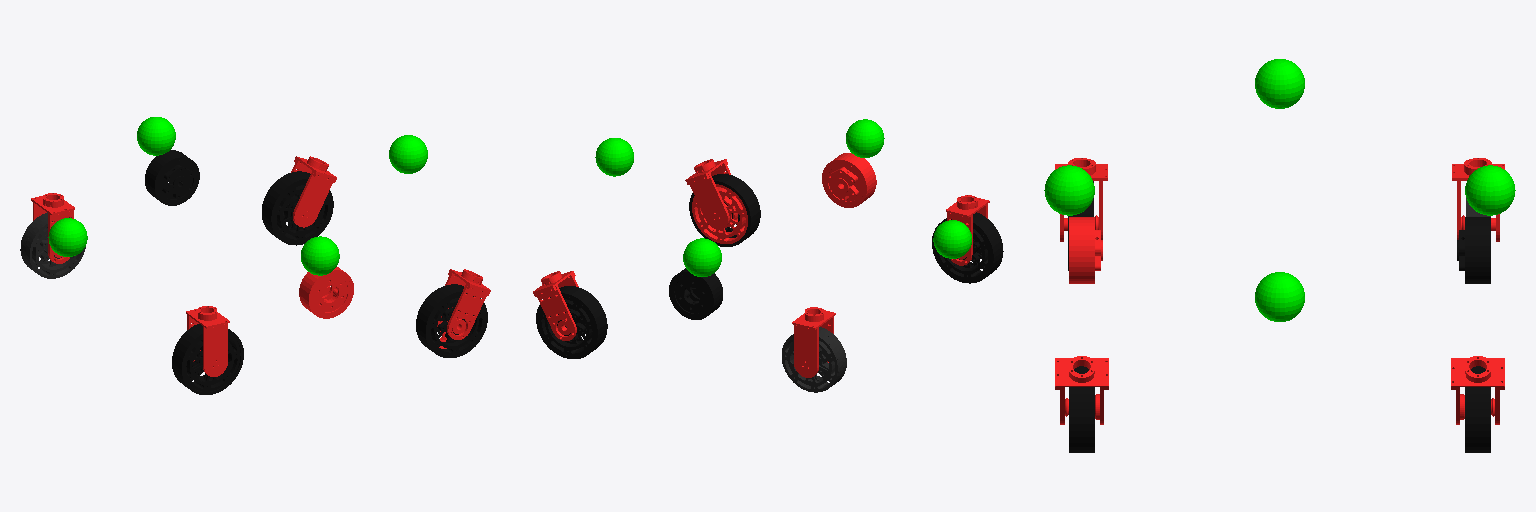
URDF robot description (chassis):
<?xml version="1.0" encoding="utf-8"?>
<robot name="chassis">
  <link name="base_link">
    <inertial>
      <origin xyz="-0.228303970028683 -0.000876202158095252 0.0299134679923336" rpy="0 0 0" />
      <mass value="5.53904527133728" />
      <inertia ixx="0.028475" ixy="0" ixz="0" iyy="0.016389" iyz="0" izz="0.041786" />
    </inertial>
    <visual>
      <origin xyz="0 0 0" rpy="0 0 0" />
      <geometry>
        <mesh filename="package://chassis/meshes/base_link.STL" />
      </geometry>
      <material name="">
        <color rgba="0.847058823529412 0.847058823529412 0.847058823529412 1" />
      </material>
    </visual>
    <collision>
      <origin xyz="0 0 0" rpy="0 0 0" />
      <geometry>
        <mesh filename="package://chassis/meshes/base_link.STL" />
      </geometry>
    </collision>
  </link>

  <link name="hover_center_link">
    <inertial><mass value="0.001" /><inertia ixx="0.00001" ixy="0" ixz="0" iyy="0.00001" iyz="0" izz="0.00001" /></inertial>
  </link>

  <joint name="hover_center_joint" type="fixed">
    <origin xyz="-0.195 0 0.05" rpy="0 0 0" />
    <parent link="base_link" />
    <child link="hover_center_link" />
  </joint>

  <link name="hover_front_link">
    <inertial><mass value="0.01" /><inertia ixx="0.0001" ixy="0" ixz="0" iyy="0.0001" iyz="0" izz="0.0001" /></inertial>
    <visual><geometry><sphere radius="0.03"/></geometry><material name=""><color rgba="0 1 0 1" /></material></visual>
  </link>
  <joint name="hover_front_joint" type="revolute">
    <origin xyz="0.3 0 0" rpy="0 0 0" /> <parent link="hover_center_link" />
    <child link="hover_front_link" />
    <axis xyz="0 0 1" /><limit lower="0" upper="0" effort="0" velocity="0" />
  </joint>

  <link name="hover_back_link">
    <inertial><mass value="0.01" /><inertia ixx="0.0001" ixy="0" ixz="0" iyy="0.0001" iyz="0" izz="0.0001" /></inertial>
    <visual><geometry><sphere radius="0.03"/></geometry><material name=""><color rgba="0 1 0 1" /></material></visual>
  </link>
  <joint name="hover_back_joint" type="revolute">
    <origin xyz="-0.3 0 0" rpy="0 0 0" /> <parent link="hover_center_link" />
    <child link="hover_back_link" />
    <axis xyz="0 0 1" /><limit lower="0" upper="0" effort="0" velocity="0" />
  </joint>

  <link name="hover_left_link">
    <inertial><mass value="0.01" /><inertia ixx="0.0001" ixy="0" ixz="0" iyy="0.0001" iyz="0" izz="0.0001" /></inertial>
    <visual><geometry><sphere radius="0.03"/></geometry><material name=""><color rgba="0 1 0 1" /></material></visual>
  </link>
  <joint name="hover_left_joint" type="revolute">
    <origin xyz="0 0.25 0" rpy="0 0 0" /> <parent link="hover_center_link" />
    <child link="hover_left_link" />
    <axis xyz="0 0 1" /><limit lower="0" upper="0" effort="0" velocity="0" />
  </joint>

  <link name="hover_right_link">
    <inertial><mass value="0.01" /><inertia ixx="0.0001" ixy="0" ixz="0" iyy="0.0001" iyz="0" izz="0.0001" /></inertial>
    <visual><geometry><sphere radius="0.03"/></geometry><material name=""><color rgba="0 1 0 1" /></material></visual>
  </link>
  <joint name="hover_right_joint" type="revolute">
    <origin xyz="0 -0.25 0" rpy="0 0 0" /> <parent link="hover_center_link" />
    <child link="hover_right_link" />
    <axis xyz="0 0 1" /><limit lower="0" upper="0" effort="0" velocity="0" />
  </joint>
  <link name="right_haunch_pitch_link">
    <inertial>
      <origin xyz="0.0339366201033879 -0.0288772647031759 -0.0391803434295923" rpy="0 0 0" />
      <mass value="0.260740535642986" />
      <inertia ixx="0.001" ixy="0" ixz="0" iyy="0.001" iyz="0" izz="0.001" />
    </inertial>
    <visual>
      <origin xyz="0 0 0" rpy="0 0 0" />
      <geometry><mesh filename="package://chassis/meshes/right_haunch_pitch_link.STL" /></geometry>
      <material name=""><color rgba="0.866666666666667 0.909803921568627 1 1" /></material>
    </visual>
    <collision>
      <origin xyz="0 0 0" rpy="0 0 0" />
      <geometry><mesh filename="package://chassis/meshes/right_haunch_pitch_link.STL" /></geometry>
    </collision>
  </link>

  <joint name="right_haunch_pitch_joint" type="revolute">
    <origin xyz="7.89664045233174E-05 -0.189999999999998 0.0155946272161924" rpy="0 0.0280639905110907 0" />
    <parent link="base_link" />
    <child link="right_haunch_pitch_link" />
    <axis xyz="0 1 0" />
    <limit lower="-3.14" upper="3.14" effort="20" velocity="190" />
  </joint>

  <link name="right_heel_wheel_pitch_link">
    <inertial>
      <origin xyz="2.83327654020393E-05 0.0108463559409561 -0.00047526453468056" rpy="0 0 0" />
      <mass value="0.16431979758067" />
      <inertia ixx="0.001" ixy="0" ixz="0" iyy="0.001" iyz="0" izz="0.001" />
    </inertial>
    <visual>
      <origin xyz="0 0 0" rpy="0 0 0" />
      <geometry><mesh filename="package://chassis/meshes/right_heel_wheel_pitch_link.STL" /></geometry>
      <material name=""><color rgba="1 0.168627450980392 0.168627450980392 1" /></material>
    </visual>
    <collision>
      <origin xyz="0 0 0" rpy="0 0 0" />
      <geometry><mesh filename="package://chassis/meshes/right_heel_wheel_pitch_link.STL" /></geometry>
    </collision>
  </link>

  <joint name="right_heel_wheel_pitch_joint" type="revolute">
    <origin xyz="-0.174321789601735 -0.0304999999998289 -0.0397965699009306" rpy="-3.14159265358979 0 0" />
    <parent link="right_haunch_pitch_link" />
    <child link="right_heel_wheel_pitch_link" />
    <axis xyz="0 1 0" />
    <limit lower="-3.14" upper="3.14" effort="3" velocity="469" />
  </joint>

  <link name="right_f_ankle_yaw_link">
    <inertial>
      <origin xyz="7.57543468865585E-06 -0.00339904167627957 -0.0672623930299538" rpy="0 0 0" />
      <mass value="0.156153092702158" />
      <inertia ixx="0.001" ixy="0" ixz="0" iyy="0.001" iyz="0" izz="0.001" />
    </inertial>
    <visual>
      <origin xyz="0 0 0" rpy="0 0 0" />
      <geometry><mesh filename="package://chassis/meshes/right_f_ankle_yaw_link.STL" /></geometry>
      <material name=""><color rgba="1 0.168627450980392 0.168627450980392 1" /></material>
    </visual>
    <collision>
      <origin xyz="0 0 0" rpy="0 0 0" />
      <geometry><mesh filename="package://chassis/meshes/right_f_ankle_yaw_link.STL" /></geometry>
    </collision>
  </link>

  <joint name="right_f_ankle_yaw_joint" type="revolute">
    <origin xyz="0.0861128261146984 -0.0395000000367831 -0.0634768419001519" rpy="0 0.468635050641022 0" />
    <parent link="right_haunch_pitch_link" />
    <child link="right_f_ankle_yaw_link" />
    <axis xyz="0 0 1" />
    <limit lower="-3.14" upper="3.14" effort="7" velocity="200" />
  </joint>

  <link name="right_f_wheel_pitch_link">
    <inertial>
      <origin xyz="0.00018645857181232 -0.0105653113754948 -0.000469045139969045" rpy="0 0 0" />
      <mass value="0.148575729795387" />
      <inertia ixx="0.001" ixy="0" ixz="0" iyy="0.001" iyz="0" izz="0.001" />
    </inertial>
    <visual>
      <origin xyz="0 0 0" rpy="0 0 0" />
      <geometry><mesh filename="package://chassis/meshes/right_f_wheel_pitch_link.STL" /></geometry>
      <material name=""><color rgba="0.101960784313725 0.101960784313725 0.101960784313725 1" /></material>
    </visual>
    <collision>
      <origin xyz="0 0 0" rpy="0 0 0" />
      <geometry><mesh filename="package://chassis/meshes/right_f_wheel_pitch_link.STL" /></geometry>
    </collision>
  </link>

  <joint name="right_f_wheel_pitch_joint" type="revolute">
    <origin xyz="0 -0.0209999999632119 -0.0814999999999685" rpy="-3.14159265358979 -0.468635050641022 0" />
    <parent link="right_f_ankle_yaw_link" />
    <child link="right_f_wheel_pitch_link" />
    <axis xyz="0 1 0" />
    <limit lower="-3.14" upper="3.14" effort="3" velocity="469" />
  </joint>

  <link name="left_haunch_pitch_link">
    <inertial>
      <origin xyz="0.0333993317808816 0.0282019259178099 -0.0381121386887407" rpy="0 0 0" />
      <mass value="0.268684499662383" />
      <inertia ixx="0.001" ixy="0" ixz="0" iyy="0.001" iyz="0" izz="0.001" />
    </inertial>
    <visual>
      <origin xyz="0 0 0" rpy="0 0 0" />
      <geometry><mesh filename="package://chassis/meshes/left_haunch_pitch_link.STL" /></geometry>
      <material name=""><color rgba="0.298039215686275 0.298039215686275 0.298039215686275 1" /></material>
    </visual>
    <collision>
      <origin xyz="0 0 0" rpy="0 0 0" />
      <geometry><mesh filename="package://chassis/meshes/left_haunch_pitch_link.STL" /></geometry>
    </collision>
  </link>

  <joint name="left_haunch_pitch_joint" type="revolute">
    <origin xyz="-7.89664044891225E-05 0.190000000000002 0.0155946272162527" rpy="0 0.0280639905110907 0" />
    <parent link="base_link" />
    <child link="left_haunch_pitch_link" />
    <axis xyz="0 -1 0" />
    <limit lower="-3.14" upper="3.14" effort="20" velocity="190" />
  </joint>

  <link name="left_heel_wheel_pitch_link">
    <inertial>
      <origin xyz="-2.8332765415584E-05 -0.0108463559411216 0.000475264534692037" rpy="0 0 0" />
      <mass value="0.16431979758067" />
      <inertia ixx="0.001" ixy="0" ixz="0" iyy="0.001" iyz="0" izz="0.001" />
    </inertial>
    <visual>
      <origin xyz="0 0 0" rpy="0 0 0" />
      <geometry><mesh filename="package://chassis/meshes/left_heel_wheel_pitch_link.STL" /></geometry>
      <material name=""><color rgba="0.101960784313725 0.101960784313725 0.101960784313725 1" /></material>
    </visual>
    <collision>
      <origin xyz="0 0 0" rpy="0 0 0" />
      <geometry><mesh filename="package://chassis/meshes/left_heel_wheel_pitch_link.STL" /></geometry>
    </collision>
  </link>

  <joint name="left_heel_wheel_pitch_joint" type="revolute">
    <origin xyz="-0.174163918981611 0.030500000000113 -0.0397921382579199" rpy="0 0 3.14159265358979" />
    <parent link="left_haunch_pitch_link" />
    <child link="left_heel_wheel_pitch_link" />
    <axis xyz="0 1 0" />
    <limit lower="-3.14" upper="3.14" effort="3" velocity="469" />
  </joint>

  <link name="left_f_ankle_yaw_link">
    <inertial>
      <origin xyz="3.13864653356255E-06 -0.00321607161635662 -0.0545657739500743" rpy="0 0 0" />
      <mass value="0.0825435398414466" />
      <inertia ixx="0.001" ixy="0" ixz="0" iyy="0.001" iyz="0" izz="0.001" />
    </inertial>
    <visual>
      <origin xyz="0 0 0" rpy="0 0 0" />
      <geometry><mesh filename="package://chassis/meshes/left_f_ankle_yaw_link.STL" /></geometry>
      <material name=""><color rgba="1 0.168627450980392 0.168627450980392 1" /></material>
    </visual>
    <collision>
      <origin xyz="0 0 0" rpy="0 0 0" />
      <geometry><mesh filename="package://chassis/meshes/left_f_ankle_yaw_link.STL" /></geometry>
    </collision>
  </link>

  <joint name="left_f_ankle_yaw_joint" type="revolute">
    <origin xyz="0.0862706968457094 0.0514999999073168 -0.0634724103132592" rpy="0 0.468635050641022 0" />
    <parent link="left_haunch_pitch_link" />
    <child link="left_f_ankle_yaw_link" />
    <axis xyz="0 0 1" />
    <limit lower="-3.14" upper="3.14" effort="7" velocity="200" />
  </joint>

  <link name="left_f_wheel_pitch_link">
    <inertial>
      <origin xyz="-0.000124685208899855 0.0148967342829046 0.000313651395595402" rpy="0 0 0" />
      <mass value="0.222185282656097" />
      <inertia ixx="0.001" ixy="0" ixz="0" iyy="0.001" iyz="0" izz="0.001" />
    </inertial>
    <visual>
      <origin xyz="0 0 0" rpy="0 0 0" />
      <geometry><mesh filename="package://chassis/meshes/left_f_wheel_pitch_link.STL" /></geometry>
      <material name=""><color rgba="0.101960784313725 0.101960784313725 0.101960784313725 1" /></material>
    </visual>
    <collision>
      <origin xyz="0 0 0" rpy="0 0 0" />
      <geometry><mesh filename="package://chassis/meshes/left_f_wheel_pitch_link.STL" /></geometry>
    </collision>
  </link>

  <joint name="left_f_wheel_pitch_joint" type="revolute">
    <origin xyz="0 0.00900000009268098 -0.0814999999999982" rpy="0 0.468635050641022 3.14159265358979" />
    <parent link="left_f_ankle_yaw_link" />
    <child link="left_f_wheel_pitch_link" />
    <axis xyz="0 1 0" />
    <limit lower="-3.14" upper="3.14" effort="3" velocity="469" />
  </joint>

  <link name="left_b_heel_yaw_link">
    <inertial>
      <origin xyz="-1.17994743353833E-06 -0.00394487184425407 -0.0586122801965365" rpy="0 0 0" />
      <mass value="0.071557663530086" />
      <inertia ixx="0.001" ixy="0" ixz="0" iyy="0.001" iyz="0" izz="0.001" />
    </inertial>
    <visual>
      <origin xyz="0 0 0" rpy="0 0 0" />
      <geometry><mesh filename="package://chassis/meshes/left_b_heel_yaw_link.STL" /></geometry>
      <material name=""><color rgba="1 0.168627450980392 0.168627450980392 1" /></material>
    </visual>
    <collision>
      <origin xyz="0 0 0" rpy="0 0 0" />
      <geometry><mesh filename="package://chassis/meshes/left_b_heel_yaw_link.STL" /></geometry>
    </collision>
  </link>

  <joint name="left_b_heel_yaw_joint" type="fixed">
    <origin xyz="-0.385000000085192 0.235500000040191 0" rpy="0 0 0" />
    <parent link="base_link" />
    <child link="left_b_heel_yaw_link" />
    <axis xyz="0 0 0" />
    <limit lower="-3.14" upper="3.14" effort="7" velocity="200" />
  </joint>

  <link name="left_b_wheel_pitch_link">
    <inertial>
      <origin xyz="-0.000410283750143847 -0.0136930162735144 0.000251764755261705" rpy="0 0 0" />
      <mass value="0.15277136109163" />
      <inertia ixx="0.001" ixy="0" ixz="0" iyy="0.001" iyz="0" izz="0.001" />
    </inertial>
    <visual>
      <origin xyz="0 0 0" rpy="0 0 0" />
      <geometry><mesh filename="package://chassis/meshes/left_b_wheel_pitch_link.STL" /></geometry>
      <material name=""><color rgba="0.2 0.2 0.2 1" /></material>
    </visual>
    <collision>
      <origin xyz="0 0 0" rpy="0 0 0" />
      <geometry><mesh filename="package://chassis/meshes/left_b_wheel_pitch_link.STL" /></geometry>
    </collision>
  </link>

  <joint name="left_b_wheel_pitch_joint" type="revolute">
    <origin xyz="4.38394921822294E-05 -0.0140000000403241 -0.0834101217145528" rpy="0 -0.0280639905110915 3.14159265358979" />
    <parent link="left_b_heel_yaw_link" />
    <child link="left_b_wheel_pitch_link" />
    <axis xyz="0 -1 0" />
    <limit lower="-3.14" upper="3.14" effort="3" velocity="469" />
  </joint>

  <link name="right_b_heel_yaw_link">
    <inertial>
      <origin xyz="-1.40904921930307E-05 0.00394487184499281 -0.0586122801965366" rpy="0 0 0" />
      <mass value="0.071557663530086" />
      <inertia ixx="0.001" ixy="0" ixz="0" iyy="0.001" iyz="0" izz="0.001" />
    </inertial>
    <visual>
      <origin xyz="0 0 0" rpy="0 0 0" />
      <geometry><mesh filename="package://chassis/meshes/right_b_heel_yaw_link.STL" /></geometry>
      <material name=""><color rgba="1 0.168627450980392 0.168627450980392 1" /></material>
    </visual>
    <collision>
      <origin xyz="0 0 0" rpy="0 0 0" />
      <geometry><mesh filename="package://chassis/meshes/right_b_heel_yaw_link.STL" /></geometry>
    </collision>
  </link>

  <joint name="right_b_heel_yaw_joint" type="revolute">
    <origin xyz="-0.38499999990586 -0.235500000040753 0" rpy="0 0 0" />
    <parent link="base_link" />
    <child link="right_b_heel_yaw_link" />
    <axis xyz="0 0 1" />
    <limit lower="-3.14" upper="3.14" effort="7" velocity="200" />
  </joint>

  <link name="right_b_wheel_pitch_link">
    <inertial>
      <origin xyz="0.000312581761166664 0.0140363406887482 -0.000177590421288055" rpy="0 0 0" />
      <mass value="0.207199453815074" />
      <inertia ixx="0.001" ixy="0" ixz="0" iyy="0.001" iyz="0" izz="0.001" />
    </inertial>
    <visual>
      <origin xyz="0 0 0" rpy="0 0 0" />
      <geometry><mesh filename="package://chassis/meshes/right_b_wheel_pitch_link.STL" /></geometry>
      <material name=""><color rgba="0.101960784313725 0.101960784313725 0.101960784313725 1" /></material>
    </visual>
    <collision>
      <origin xyz="0 0 0" rpy="0 0 0" />
      <geometry><mesh filename="package://chassis/meshes/right_b_wheel_pitch_link.STL" /></geometry>
    </collision>
  </link>

  <joint name="right_b_wheel_pitch_joint" type="revolute">
    <origin xyz="4.38393128505687E-05 0.0140000000409253 -0.0834101217145524" rpy="3.14159265358979 0.028063990511091 0" />
    <parent link="right_b_heel_yaw_link" />
    <child link="right_b_wheel_pitch_link" />
    <axis xyz="0 -1 0" />
    <limit lower="-3.14" upper="3.14" effort="3" velocity="469" />
  </joint>

  <gazebo reference="base_link"><gravity>false</gravity></gazebo>
  
  <gazebo reference="right_haunch_pitch_link"><gravity>false</gravity></gazebo>
  <gazebo reference="right_heel_wheel_pitch_link"><gravity>false</gravity></gazebo>
  <gazebo reference="right_f_ankle_yaw_link"><gravity>false</gravity></gazebo>
  <gazebo reference="right_f_wheel_pitch_link"><gravity>false</gravity></gazebo>
  <gazebo reference="right_b_heel_yaw_link"><gravity>false</gravity></gazebo>
  <gazebo reference="right_b_wheel_pitch_link"><gravity>false</gravity></gazebo>

  <gazebo reference="left_haunch_pitch_link"><gravity>false</gravity></gazebo>
  <gazebo reference="left_heel_wheel_pitch_link"><gravity>false</gravity></gazebo>
  <gazebo reference="left_f_ankle_yaw_link"><gravity>false</gravity></gazebo>
  <gazebo reference="left_f_wheel_pitch_link"><gravity>false</gravity></gazebo>
  <gazebo reference="left_b_heel_yaw_link"><gravity>false</gravity></gazebo>
  <gazebo reference="left_b_wheel_pitch_link"><gravity>false</gravity></gazebo>

  <gazebo reference="hover_center_link"><gravity>false</gravity></gazebo>
  <gazebo reference="hover_front_link"><gravity>false</gravity></gazebo>
  <gazebo reference="hover_back_link"><gravity>false</gravity></gazebo>
  <gazebo reference="hover_left_link"><gravity>false</gravity></gazebo>
  <gazebo reference="hover_right_link"><gravity>false</gravity></gazebo>

  <gazebo>
    <plugin name="floating_chassis_controller" filename="libgazebo_ros_planar_move.so">
      <ros>
        <namespace>/</namespace>
        <remapping>cmd_vel:=cmd_vel</remapping>
        <remapping>odom:=odom</remapping>
      </ros>
      <update_rate>100.0</update_rate>
      <publish_rate>50.0</publish_rate>
      <publish_odom>true</publish_odom>
      <publish_odom_tf>true</publish_odom_tf>
      <robot_base_frame>base_link</robot_base_frame>
      <odometry_frame>odom</odometry_frame>
      <covariance_x>0.0001</covariance_x>
      <covariance_y>0.0001</covariance_y>
      <covariance_yaw>0.01</covariance_yaw>
    </plugin>
  </gazebo>

  <gazebo>
    <plugin name="force_front" filename="libgazebo_ros_force.so">
      <ros><namespace>/</namespace><remapping>gazebo_ros_force:=force_cmd</remapping></ros>
      <link_name>hover_front_link</link_name>
      <force_frame>world</force_frame>
    </plugin>
  </gazebo>
  <gazebo>
    <plugin name="force_back" filename="libgazebo_ros_force.so">
      <ros><namespace>/</namespace><remapping>gazebo_ros_force:=force_cmd</remapping></ros>
      <link_name>hover_back_link</link_name>
      <force_frame>world</force_frame>
    </plugin>
  </gazebo>
  <gazebo>
    <plugin name="force_left" filename="libgazebo_ros_force.so">
      <ros><namespace>/</namespace><remapping>gazebo_ros_force:=force_cmd</remapping></ros>
      <link_name>hover_left_link</link_name>
      <force_frame>world</force_frame>
    </plugin>
  </gazebo>
  <gazebo>
    <plugin name="force_right" filename="libgazebo_ros_force.so">
      <ros><namespace>/</namespace><remapping>gazebo_ros_force:=force_cmd</remapping></ros>
      <link_name>hover_right_link</link_name>
      <force_frame>world</force_frame>
    </plugin>
  </gazebo>

</robot>

--- Facts derived from the render (not from the file) ---
The picture shows the robot from 3 angles, left to right: view 1: azimuth 30°, elevation 25°; view 2: azimuth 150°, elevation 25°; view 3: azimuth 270°, elevation 25°; orthographic projection.
Robot: chassis — 18 links, 17 joints (15 revolute, 2 fixed); root link base_link; default pose: all joints at 0.
Links seen in each view (by area): view 1: left_f_wheel_pitch_link, right_f_wheel_pitch_link, right_b_wheel_pitch_link, left_heel_wheel_pitch_link, right_heel_wheel_pitch_link, right_b_heel_yaw_link, right_f_ankle_yaw_link, left_f_ankle_yaw_link, left_b_wheel_pitch_link, hover_left_link, hover_right_link, hover_back_link (+2 smaller); view 2: right_f_ankle_yaw_link, left_f_wheel_pitch_link, right_b_wheel_pitch_link, right_heel_wheel_pitch_link, left_b_wheel_pitch_link, left_heel_wheel_pitch_link, left_b_heel_yaw_link, left_f_ankle_yaw_link, right_f_wheel_pitch_link, hover_left_link, hover_back_link, hover_right_link (+2 smaller); view 3: right_f_ankle_yaw_link, left_f_ankle_yaw_link, right_heel_wheel_pitch_link, left_heel_wheel_pitch_link, hover_front_link, hover_left_link, hover_right_link, hover_back_link, right_f_wheel_pitch_link, left_f_wheel_pitch_link, left_b_heel_yaw_link, right_b_heel_yaw_link.
Link boxes in pixels (box(x1,y1,x2,y2)): left_f_wheel_pitch_link: box(262, 171, 333, 245); right_f_wheel_pitch_link: box(416, 284, 487, 357); right_b_wheel_pitch_link: box(172, 324, 243, 394); left_heel_wheel_pitch_link: box(145, 150, 199, 205); right_heel_wheel_pitch_link: box(299, 267, 353, 318); right_b_heel_yaw_link: box(186, 306, 229, 376); right_f_ankle_yaw_link: box(437, 269, 490, 348); left_f_ankle_yaw_link: box(291, 156, 336, 227); left_b_wheel_pitch_link: box(20, 212, 85, 278); hover_left_link: box(137, 117, 175, 155); hover_right_link: box(301, 236, 339, 275); hover_back_link: box(48, 218, 87, 256); right_f_ankle_yaw_link: box(685, 159, 747, 243); left_f_wheel_pitch_link: box(536, 286, 607, 358); right_b_wheel_pitch_link: box(932, 212, 1003, 283); right_heel_wheel_pitch_link: box(822, 153, 876, 207); left_b_wheel_pitch_link: box(782, 327, 846, 392); left_heel_wheel_pitch_link: box(669, 268, 722, 319); left_b_heel_yaw_link: box(792, 307, 835, 377); left_f_ankle_yaw_link: box(533, 271, 578, 340); right_f_wheel_pitch_link: box(689, 174, 760, 246); hover_left_link: box(683, 238, 721, 276); hover_back_link: box(933, 220, 971, 258); hover_right_link: box(846, 119, 884, 157); right_f_ankle_yaw_link: box(1055, 356, 1108, 424); left_f_ankle_yaw_link: box(1451, 356, 1504, 424); right_heel_wheel_pitch_link: box(1069, 217, 1102, 283); left_heel_wheel_pitch_link: box(1457, 217, 1490, 283); hover_front_link: box(1255, 272, 1304, 321); hover_left_link: box(1465, 165, 1515, 215); hover_right_link: box(1044, 165, 1094, 215); hover_back_link: box(1255, 59, 1304, 108); right_f_wheel_pitch_link: box(1069, 366, 1094, 452); left_f_wheel_pitch_link: box(1465, 366, 1490, 452); left_b_heel_yaw_link: box(1452, 158, 1504, 241); right_b_heel_yaw_link: box(1055, 158, 1107, 241).
Bounding box of the posed robot: 0.66 × 0.56 × 0.2569 m (x, y, z).
10 mesh visuals loaded from 13 distinct referenced files (10 binary STL); not drawn: 3 (reference not matched to a file when rendering).
